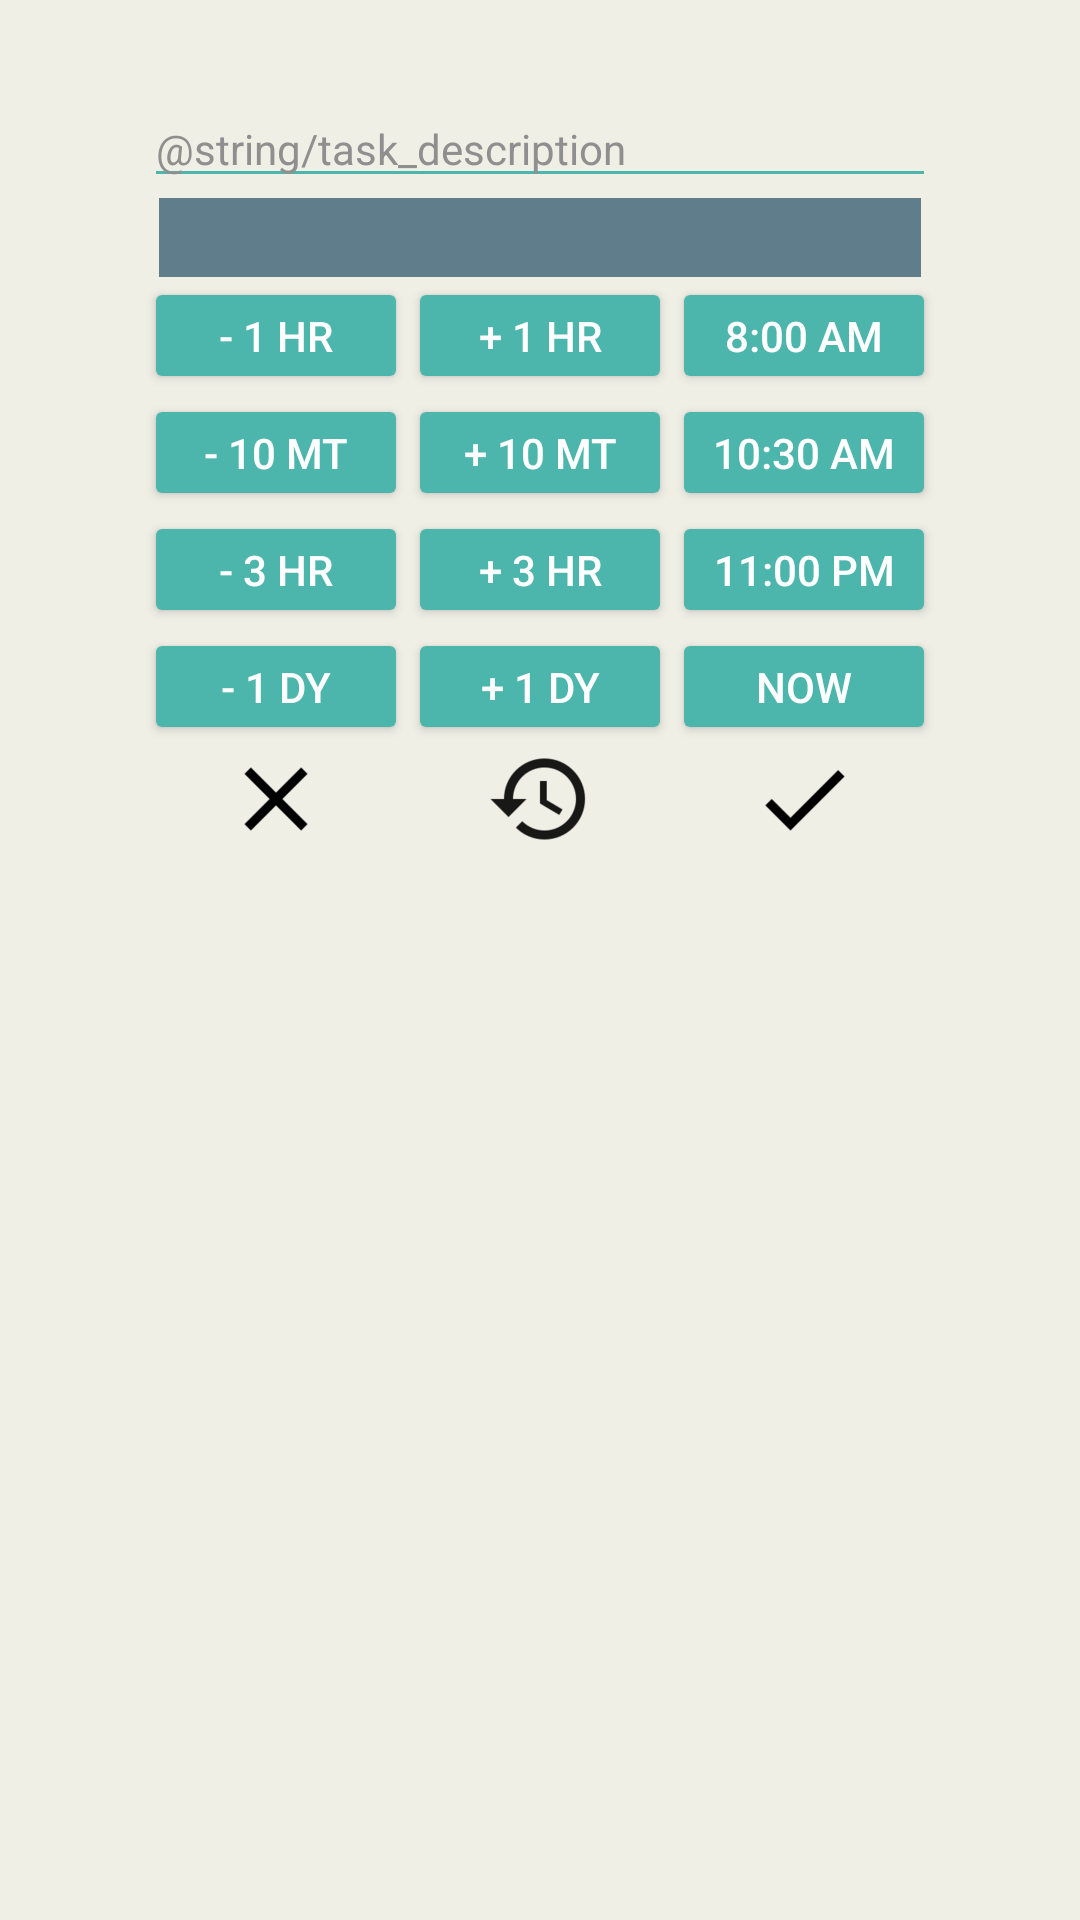

Icons on this 1080px x 1920px Android screen, each with the point to tap as point (x, y):
cancel: point (276, 799)
done: point (805, 800)
